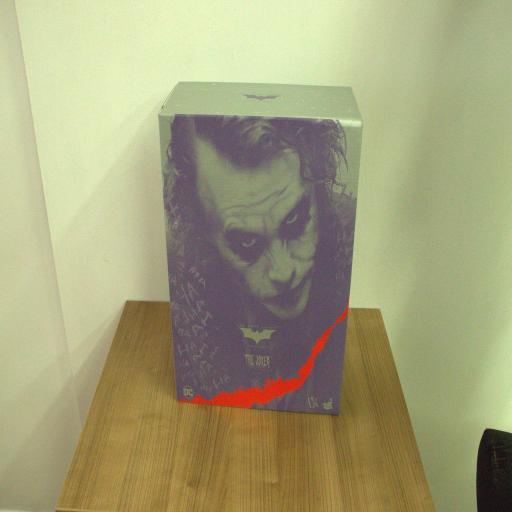Joker: (158, 81, 364, 416)
